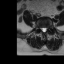CCS_normal: (43, 24, 45, 34)
LFS_stenosis: (47, 24, 48, 30)
LLS_normal: (45, 24, 47, 33)
RFS_stenosis: (39, 24, 41, 30)
RLS_normal: (41, 25, 43, 33)
